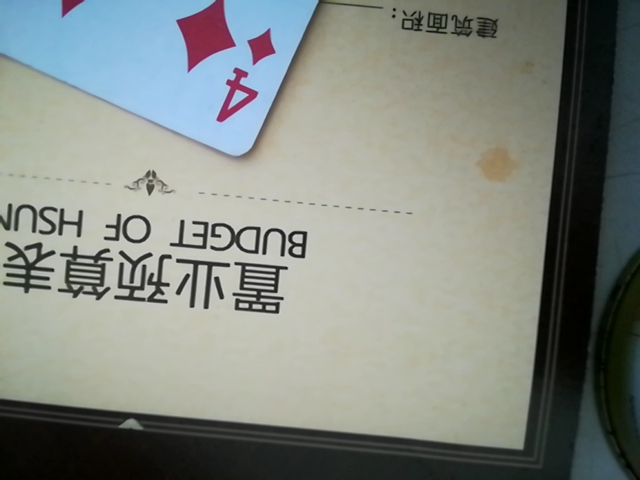fk 4: (0, 0, 511, 167)
